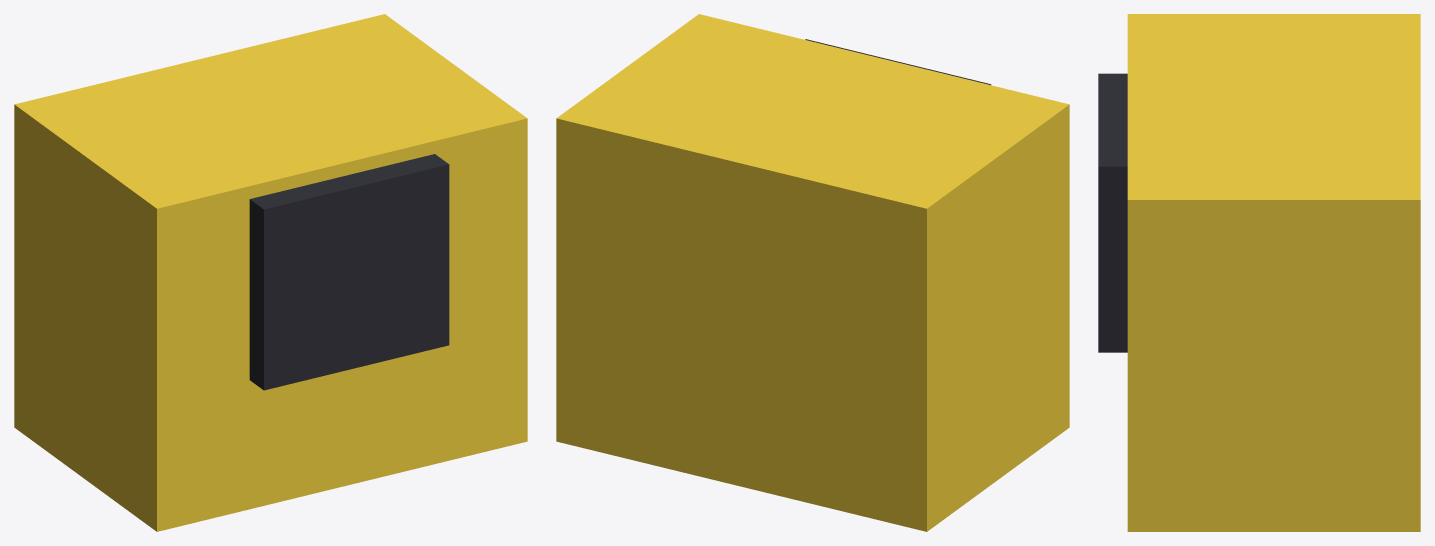
File: garage_battery_charger.glb
The picture shows the model from 3 angles, left to right: view 1: azimuth 30°, elevation 25°; view 2: azimuth 150°, elevation 25°; view 3: azimuth 270°, elevation 25°; orthographic projection. The views are drawn at different scales.
Visible parts, largest first — view 1: battery_charger; view 2: battery_charger; view 3: battery_charger.
Boxes of the visible parts, x1,y1,x2,y2 form: battery_charger: (14,14,527,531); battery_charger: (556,14,1069,531); battery_charger: (1098,14,1420,531).
Bounding box in the file's own units: 0.3 × 0.25 × 0.22.
